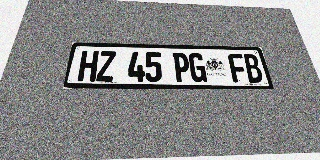4: (128, 52, 145, 82)
5: (145, 52, 162, 82)
B: (242, 54, 264, 83)
F: (227, 54, 249, 83)
G: (188, 53, 207, 82)
H: (77, 50, 99, 82)
P: (172, 52, 191, 82)
Z: (96, 51, 116, 82)
